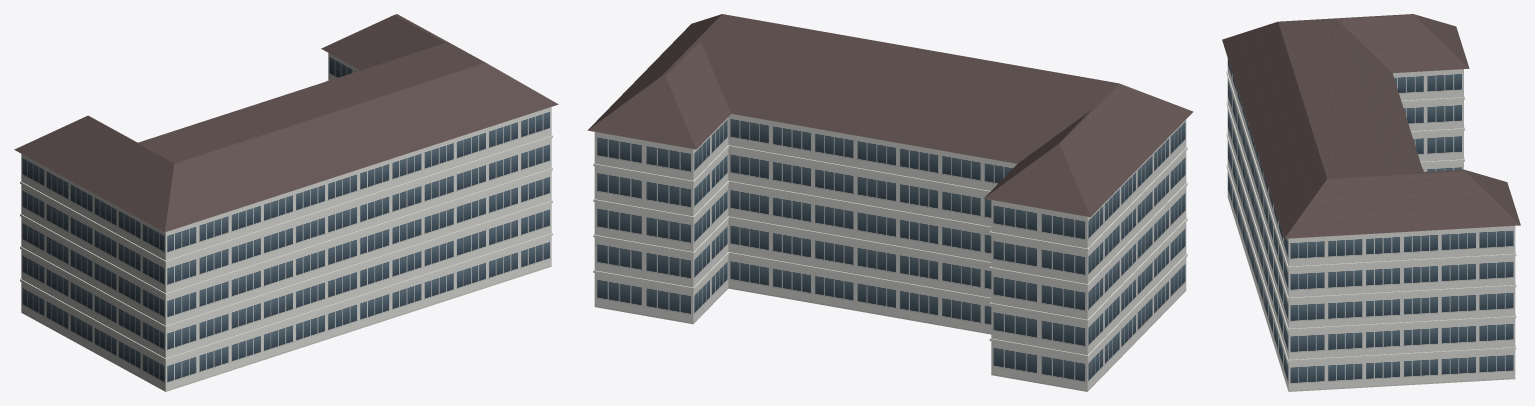
File: dorm_qinyuan_g3.glb
3 views of the same model, side by side, from view 1: azimuth 30°, elevation 25°; view 2: azimuth 150°, elevation 25°; view 3: azimuth 270°, elevation 25° (orthographic). The views are drawn at different scales.
Visible parts, largest first — view 1: 1114843836; view 2: 1114843836; view 3: 1114843836.
Boxes of the visible parts, <box> form: 1114843836: <box>14,14,558,391</box>; 1114843836: <box>587,14,1193,391</box>; 1114843836: <box>1222,14,1520,391</box>.
Size of the model in its own units: 50.36 by 21.2 by 29.96.
Materials: 4 (2 with a texture image).
